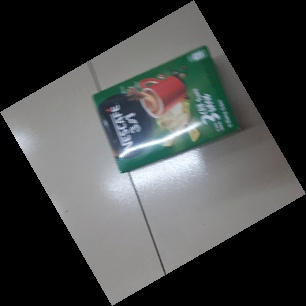Nes Rang: (89, 44, 240, 174)
